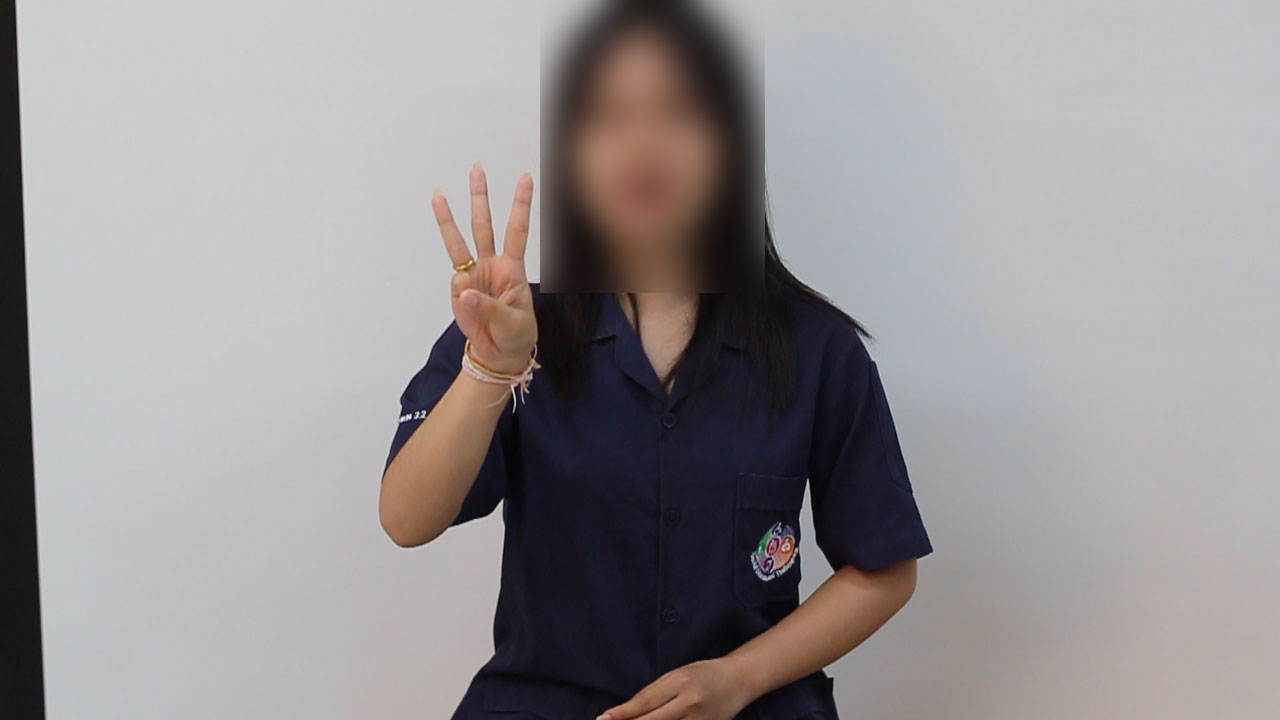wor: (424, 159, 545, 380)
